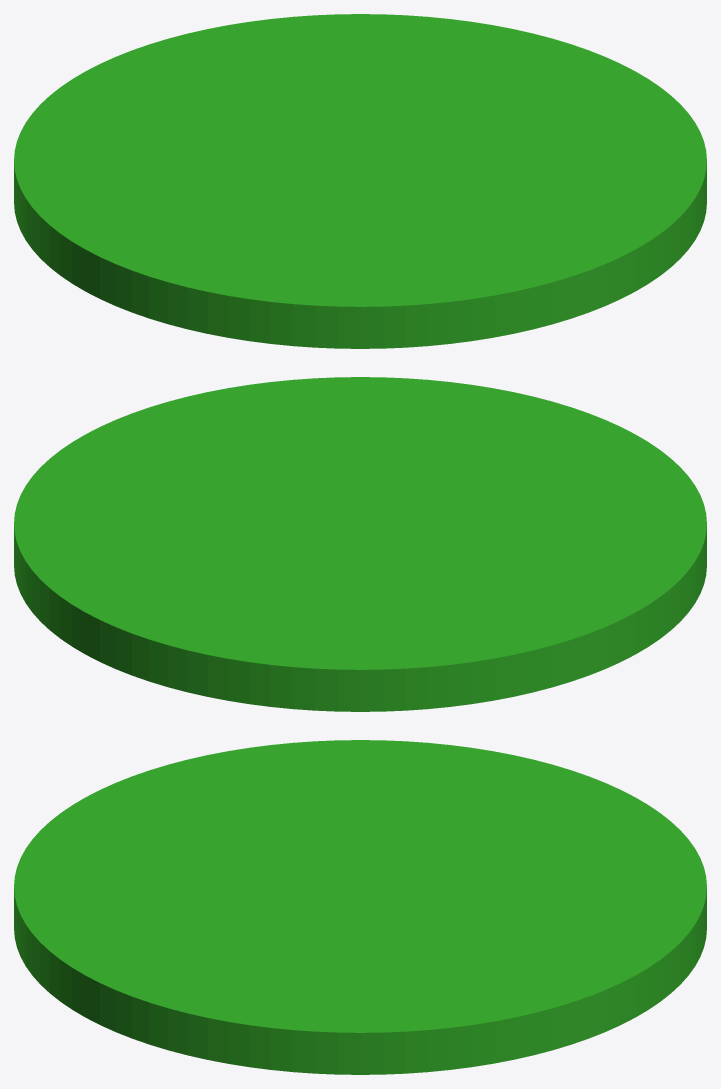
File: si-keilat-1-5-uniryyn-Alusta5-5.fbx
The picture shows the model from 3 angles, top to bottom: view 1: azimuth 30°, elevation 25°; view 2: azimuth 150°, elevation 25°; view 3: azimuth 270°, elevation 25°; orthographic projection.
Visible parts, largest first — view 1: Cylinder.021; view 2: Cylinder.021; view 3: Cylinder.021.
Boxes of the visible parts, x1,y1,x2,y2 form: Cylinder.021: (14,14,706,348); Cylinder.021: (14,377,706,711); Cylinder.021: (14,740,706,1074).
Bounding box in the file's own units: 448 × 30 × 448.
